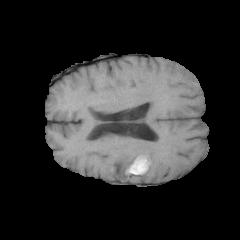glioma: (83, 138, 151, 180)
